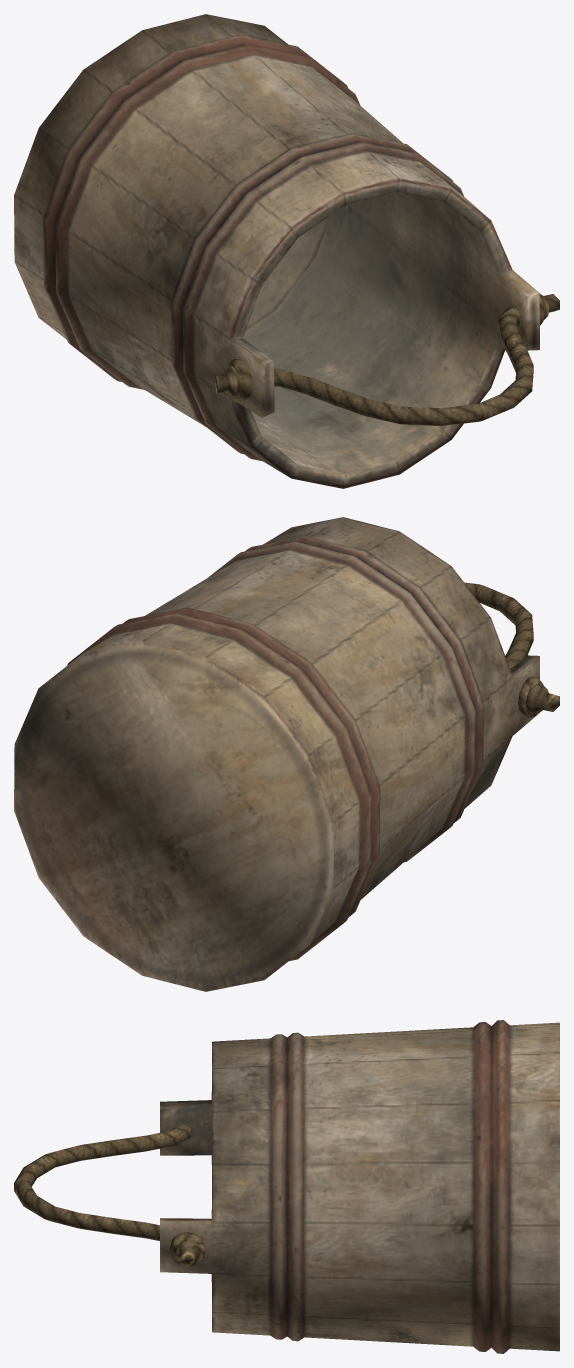
File: wooden-bucket-lowpoly-9687f0.glb
The picture shows the model from 3 angles, top to bottom: view 1: azimuth 30°, elevation 25°; view 2: azimuth 150°, elevation 25°; view 3: azimuth 270°, elevation 25°; orthographic projection. The views are drawn at different scales.
Parts seen in each view (by area): view 1: PropMesh; view 2: PropMesh; view 3: PropMesh.
Boxes of the visible parts, bbox=[...] form: PropMesh: bbox=[14, 14, 559, 488]; PropMesh: bbox=[14, 517, 559, 991]; PropMesh: bbox=[14, 1020, 559, 1353].
Size of the model in its own units: 0.3678 by 0.35 by 0.5765.
Materials: 1 (1 with a texture image).
